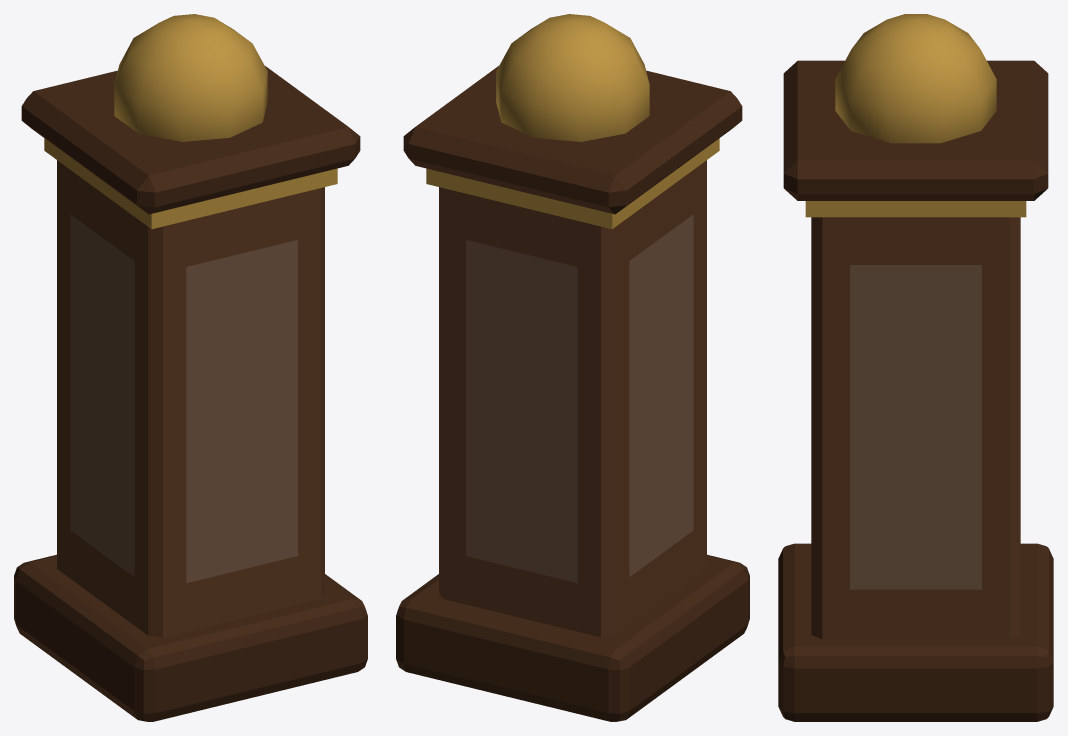
File: library-post.glb
3 renders of one model, left to right at view 1: azimuth 30°, elevation 25°; view 2: azimuth 150°, elevation 25°; view 3: azimuth 270°, elevation 25°, orthographic. The views are drawn at different scales.
Parts seen in each view (by area): view 1: library-post; view 2: library-post; view 3: library-post.
Boxes of the visible parts, x1=… form: library-post: x1=14, y1=14, x2=367, y2=721; library-post: x1=396, y1=14, x2=749, y2=721; library-post: x1=778, y1=14, x2=1053, y2=721.
Size of the model in its own units: 0.5 by 1.3 by 0.5.
